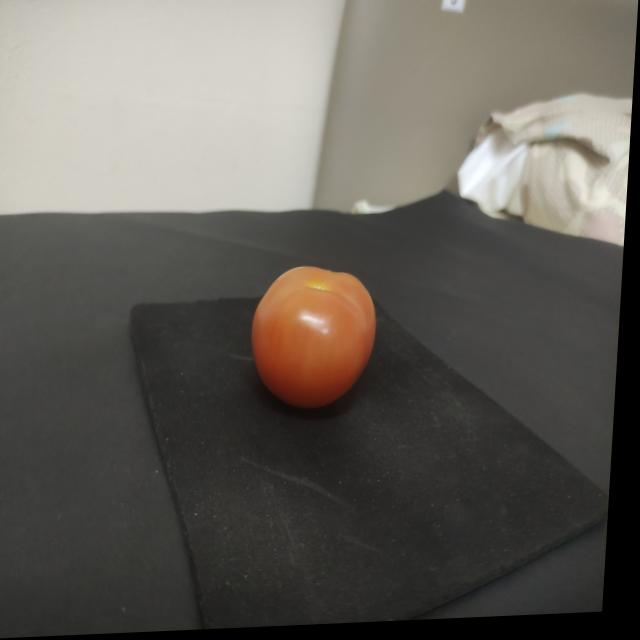sari: (247, 257, 397, 424)
